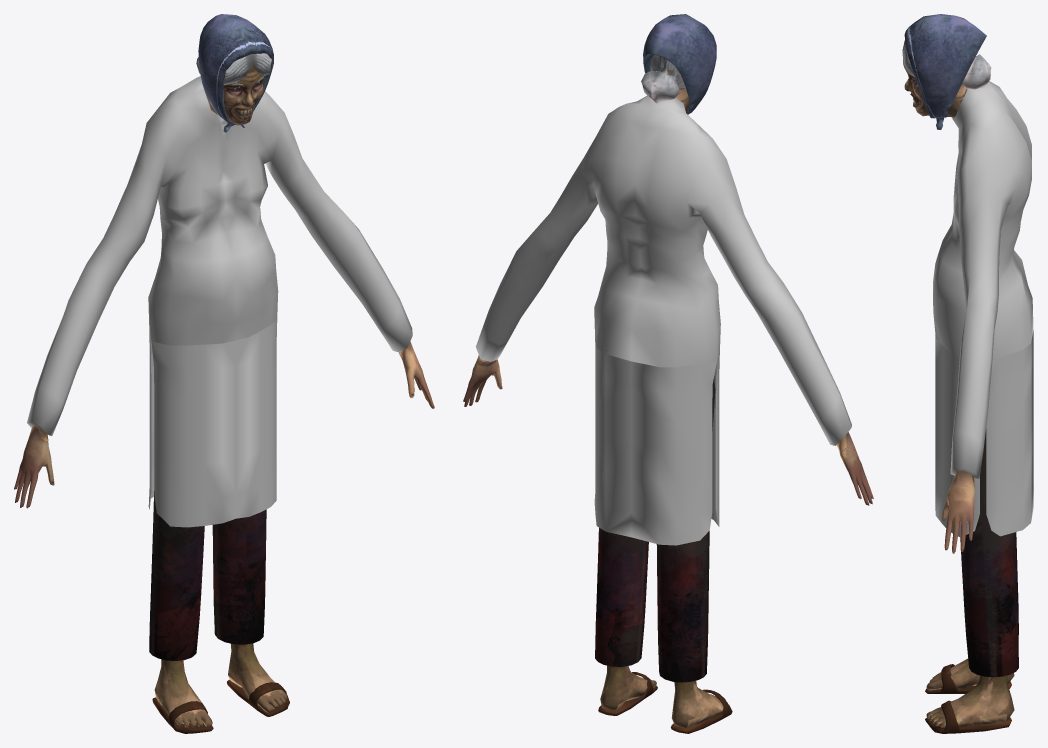
File: granny_clean.fbx
The picture shows the model from 3 angles, left to right: view 1: azimuth 30°, elevation 25°; view 2: azimuth 150°, elevation 25°; view 3: azimuth 270°, elevation 25°; orthographic projection. The views are drawn at different scales.
Parts seen in each view (by area): view 1: granny; view 2: granny; view 3: granny.
Part boxes in pixels (bbox=[...]): granny: bbox=[14, 14, 434, 733]; granny: bbox=[463, 14, 873, 733]; granny: bbox=[902, 14, 1033, 733].
Bounding box in the file's own units: 132 × 213 × 36.62.
